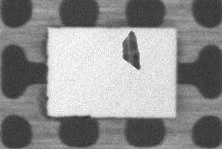DIE_INK: (120, 29, 141, 69)
